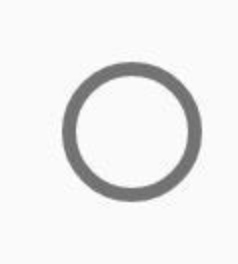RadioButton: (1, 1, 237, 263)
